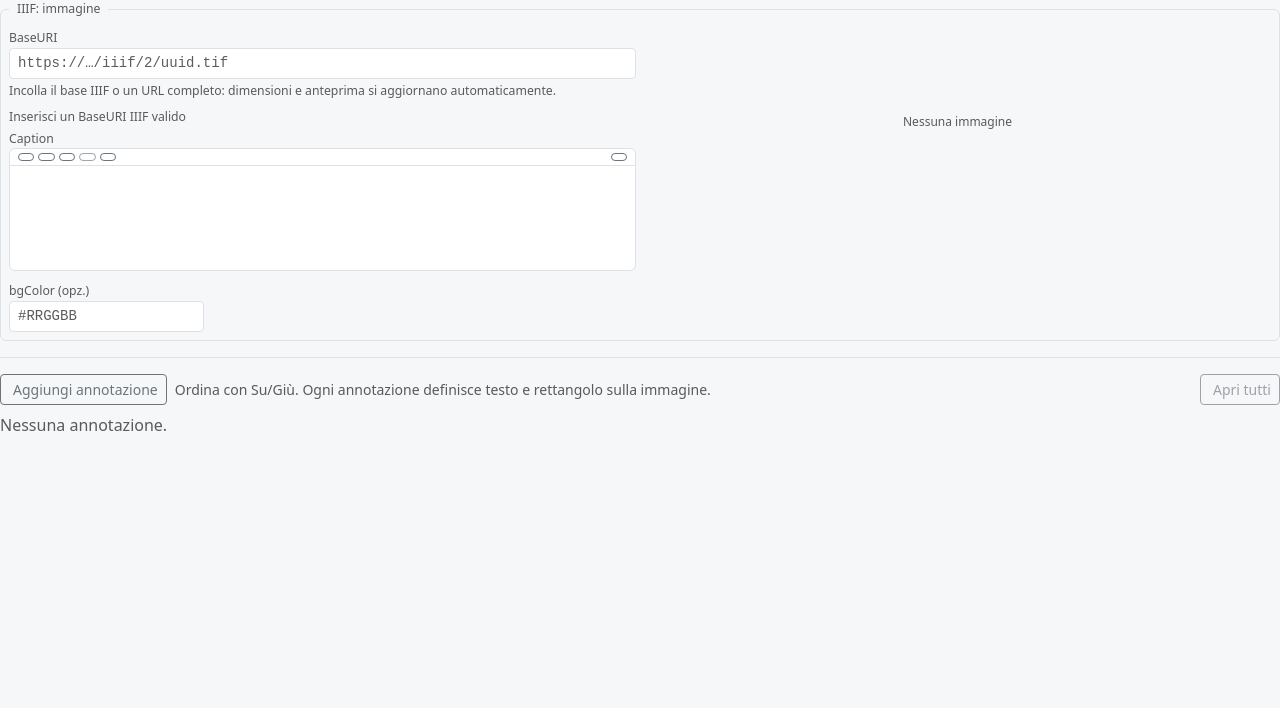
Test case: IIFAnnotationsGroupFields › dopo Chiudi tutti, nuova annotazione resta l’unica aperta
The width and height of the screenshot is (1280, 708).
Click the button "Aggiungi annotazione": (83,389) top-left (0, 374), bottom-right (167, 405)
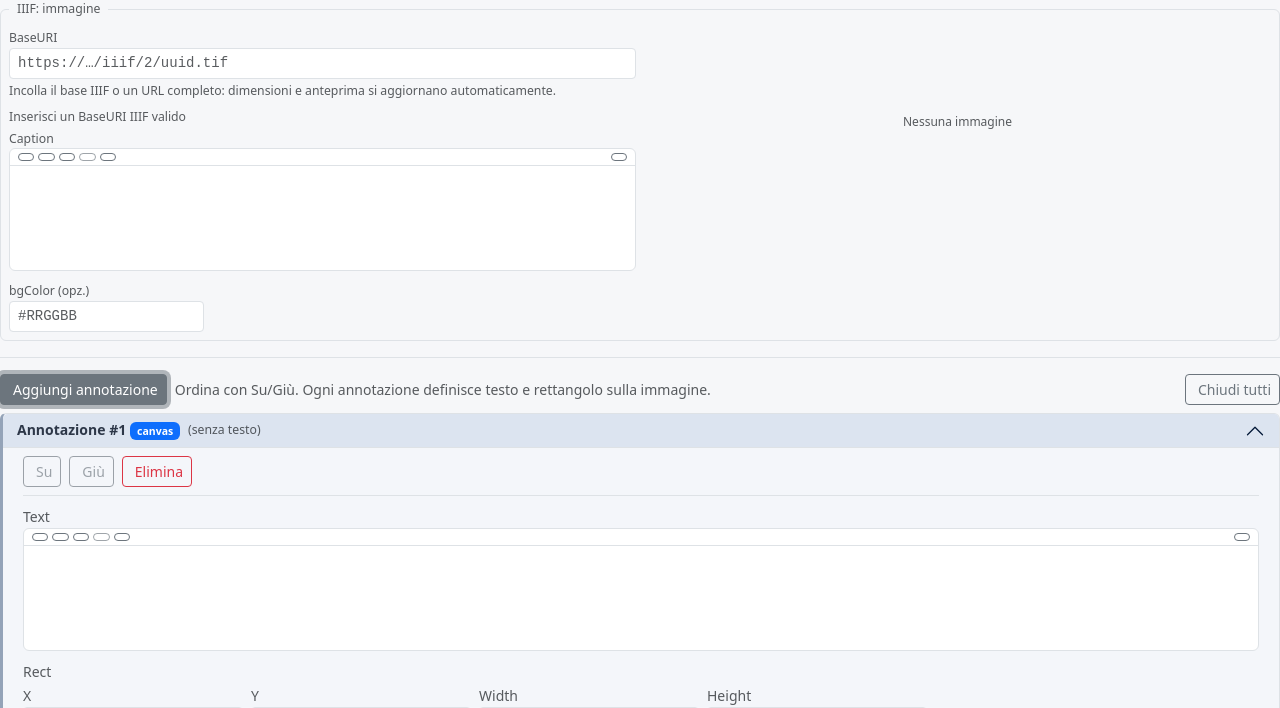
Click the button "Aggiungi annotazione": (83,389) top-left (0, 374), bottom-right (167, 405)
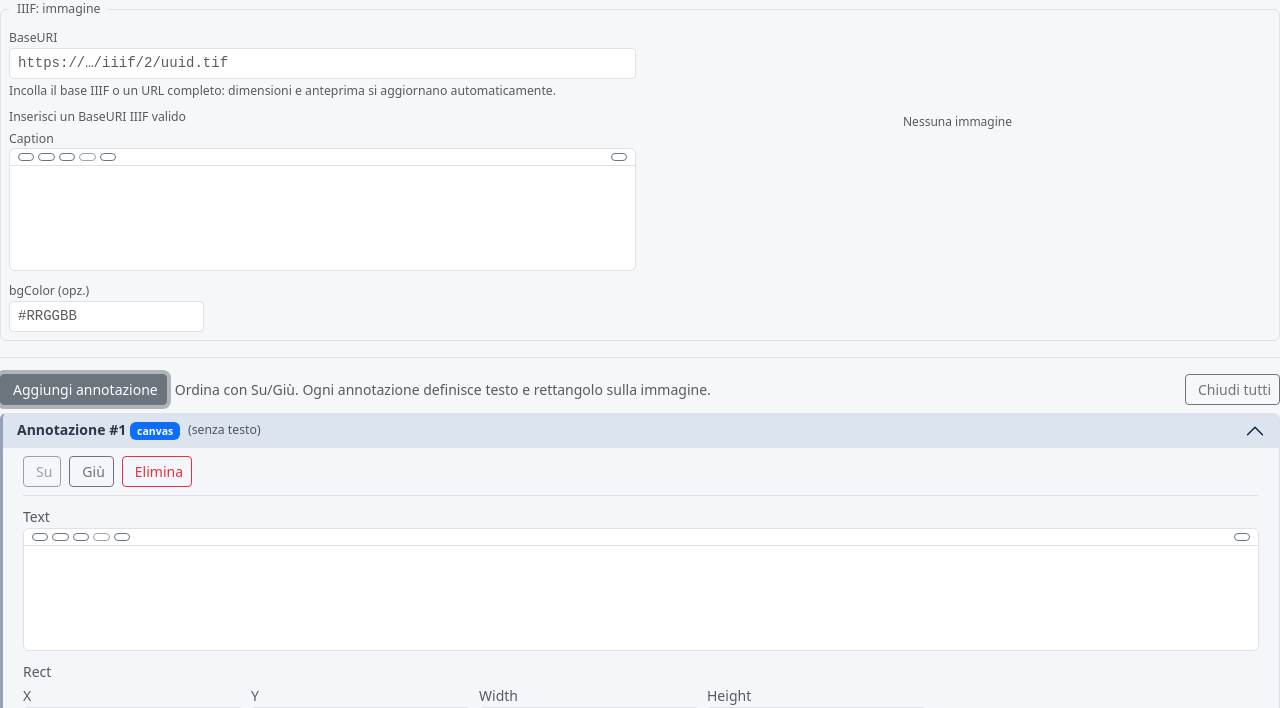
Click the button "Chiudi tutti": (1232,389) top-left (1185, 374), bottom-right (1279, 405)
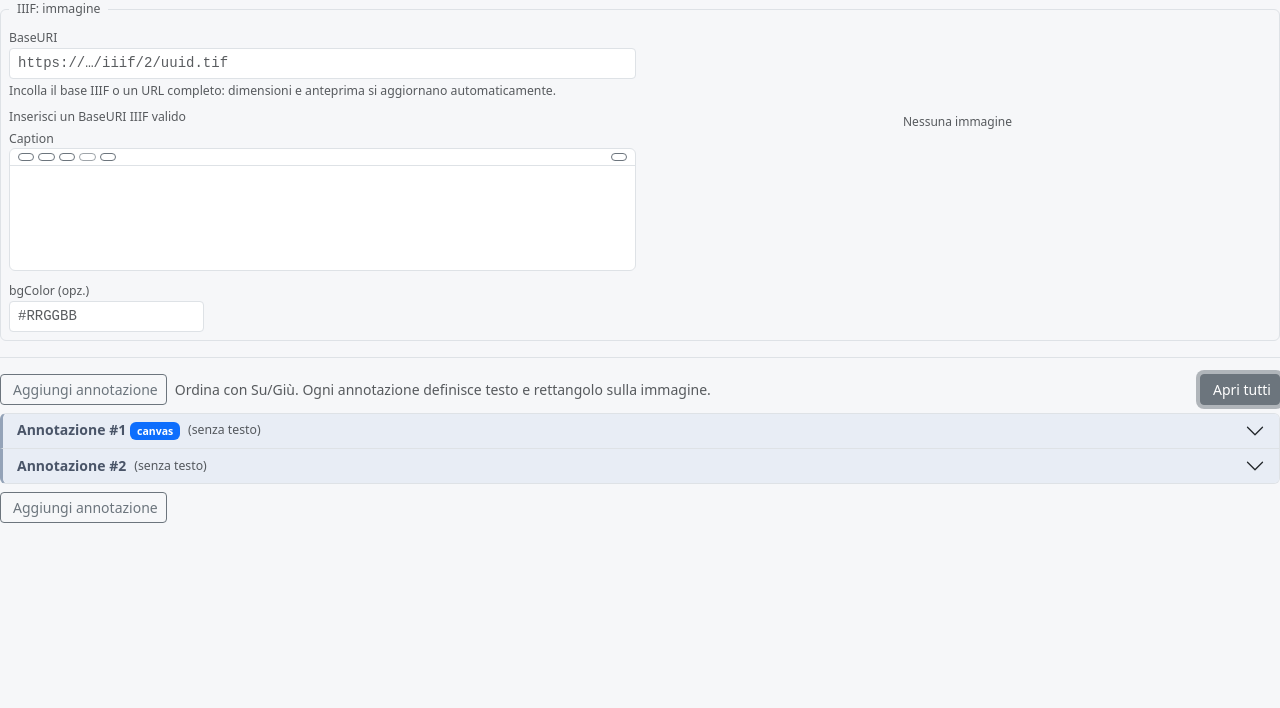
expect the button "Annotazione #1 canvas (senza testo)" is collapsed: met, box top-left (3, 414), bottom-right (1279, 448)
expect the button "Annotazione #2 (senza testo)" is collapsed: met, box top-left (3, 449), bottom-right (1279, 483)
Click the 1st button "Aggiungi annotazione": (83,389) top-left (0, 374), bottom-right (167, 405)
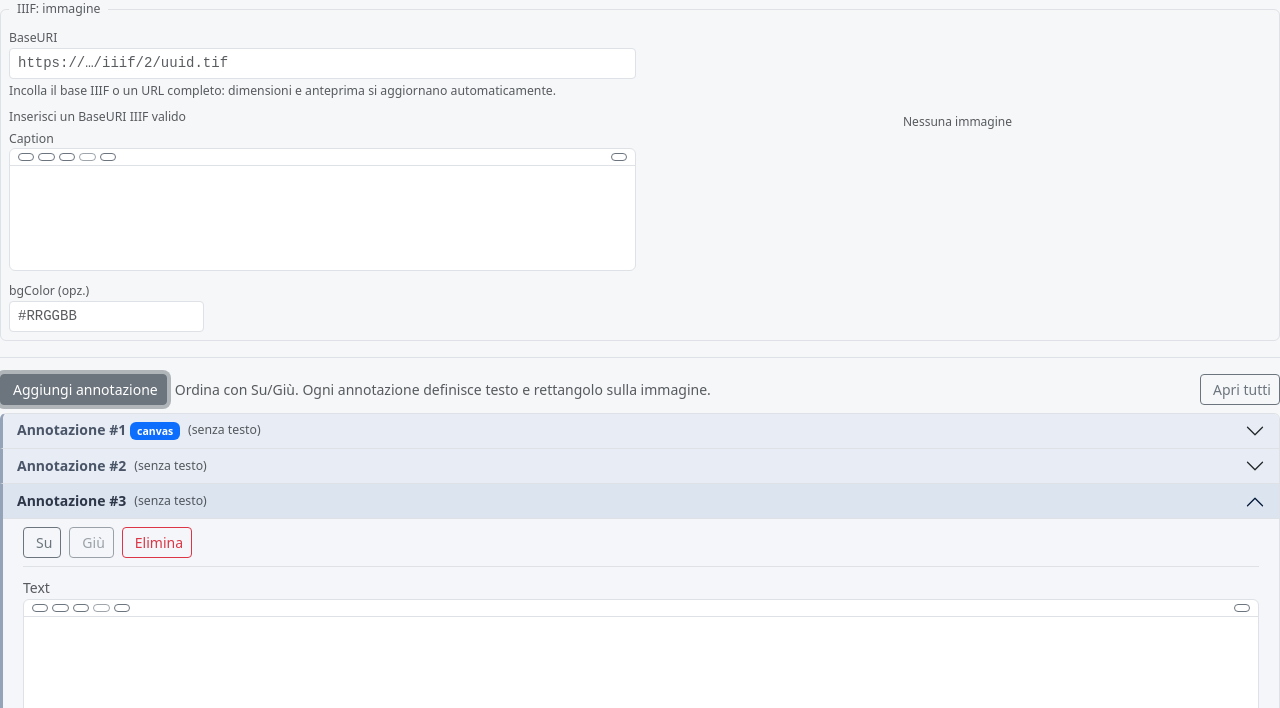
expect the button "Annotazione #1 canvas (senza testo)" is collapsed: met, box top-left (3, 414), bottom-right (1279, 448)
expect the button "Annotazione #2 (senza testo)" is collapsed: met, box top-left (3, 449), bottom-right (1279, 483)
expect the number of buttons "Annotazione #1 canvas (senza testo)" is 3: met, box top-left (3, 414), bottom-right (1279, 448); top-left (3, 449), bottom-right (1279, 483); top-left (3, 484), bottom-right (1279, 519)
